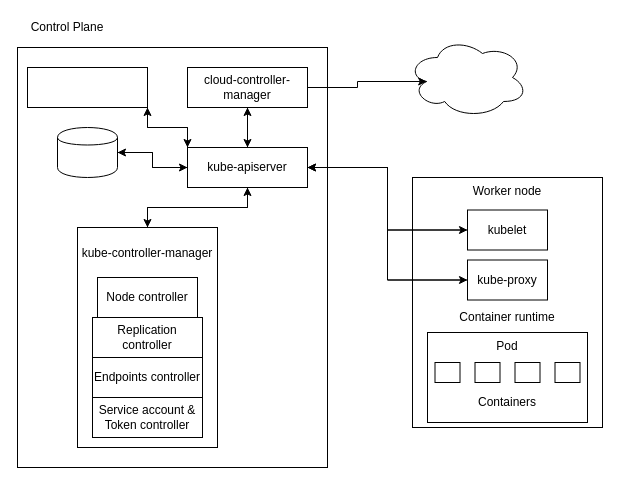
The diagram is 620 pixels wide and 485 high, and some of its shapes have lost their labels. The shapes that lost their labels are listed below. From the top down, each one's centre as x and y in pixels, then its label:
At (x=87, y=87): "kube-scheduler".
At (x=467, y=77): "Cloud".
At (x=87, y=152): "etcd".
